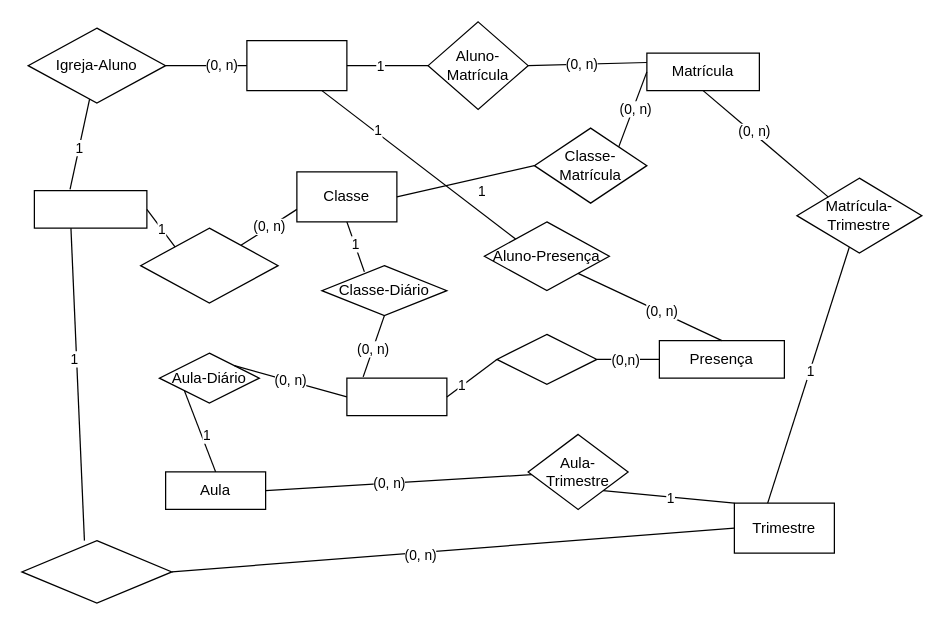
Image size: 944x625. Some labels were removed from this diagram. Each missing label, with the centre of its shape:
Aluno: [296,65]
Diário: [396,396]
Igreja: [90,208]
Igreja-Classe: [208,265]
Igreja-Trimestre: [96,571]
Registra: [546,358]
